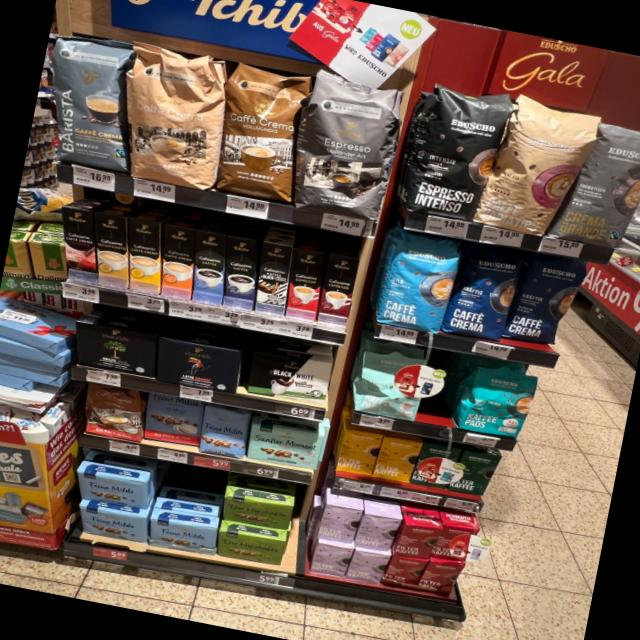BM Gemahlen: (66, 316, 162, 380)
BW Gemahlen: (245, 347, 336, 408)
Barista CC: (51, 28, 130, 176)
CC Mild: (127, 41, 229, 193)
CC Vollmundig: (76, 383, 150, 446)
CC Vollmundig 36 Pads: (209, 60, 316, 206)
Espresso M Art: (288, 68, 406, 223)
FM 36 Pads: (138, 390, 206, 450)
FM Bohne: (195, 404, 253, 462)
FM Gemahlen: (78, 471, 148, 511), (150, 516, 217, 556), (80, 504, 147, 544)
Herzhatfe Mundig: (217, 529, 287, 566), (224, 494, 294, 531)
LG Gemahlen: (152, 336, 245, 398)
SM Gemahlen: (244, 420, 325, 472)
Simo CC Colombia: (62, 206, 98, 285)
Simo CCMild bigpack: (130, 218, 161, 294)
Simo CCVollmundig bigpack: (161, 223, 196, 301)
Simo Decaff: (95, 212, 128, 289)
Simo Es Brazil: (285, 247, 326, 321)
Simo Es Caramel: (316, 254, 358, 328)
Simo Es Elegant: (255, 242, 292, 316)
Simo Es Kraft: (225, 236, 257, 311)
Simo Es Vanilla: (192, 229, 227, 306)
